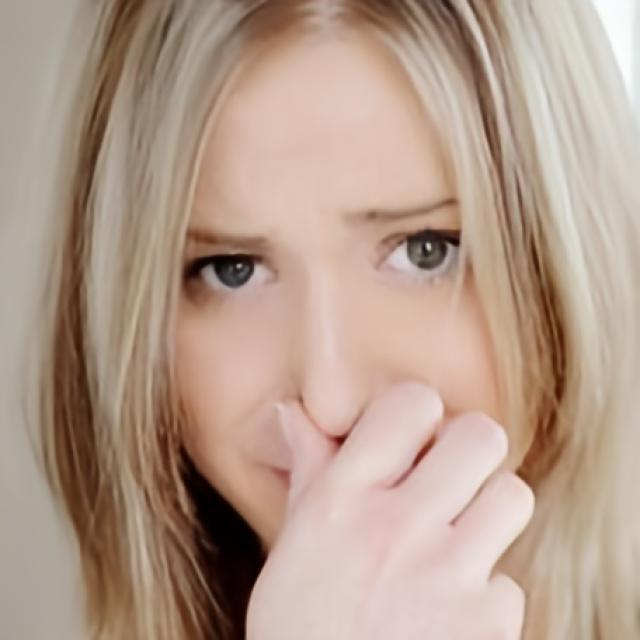disgust: (174, 19, 540, 586)
